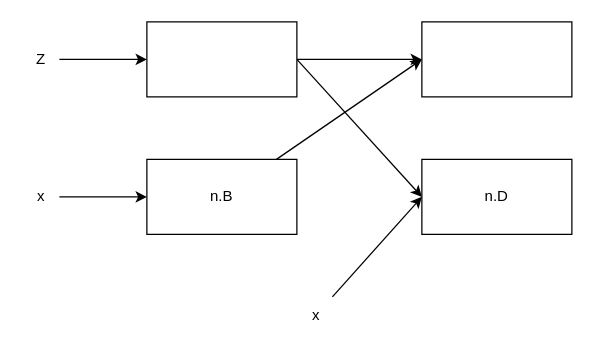
The diagram is 594 pixels wide and 356 high, and some of its shapes have lost their labels. The centre of each missing label's shape, as x and y in pixels:
"n.A (Identity)" goes at (x=221, y=59).
"n.C" goes at (x=496, y=59).
